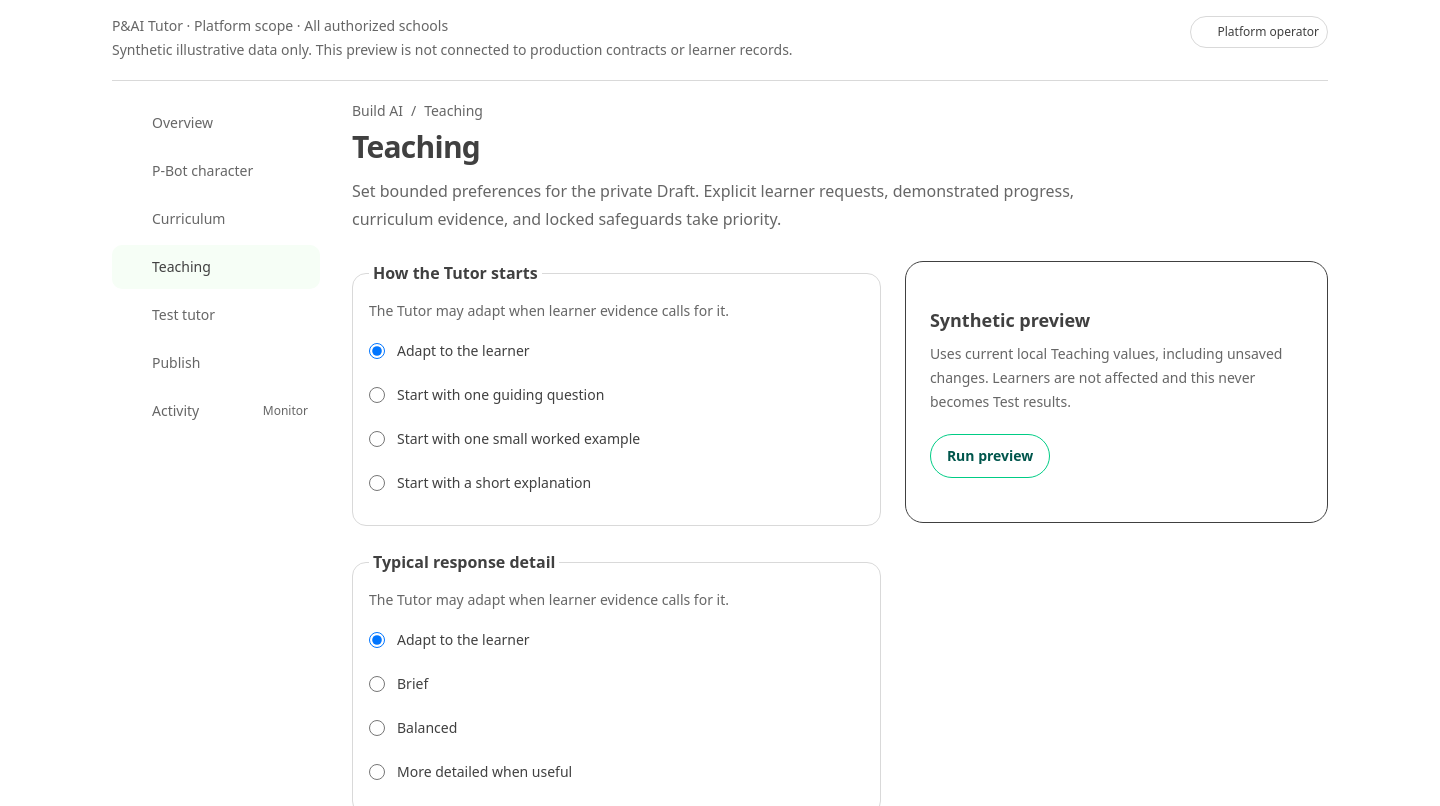
Test: Build AI state transitions › marks a Teaching preview stale after an edit and saves the Draft
The image size is (1440, 806).
Click the button "Run preview". click: {"x": 990, "y": 456}
box: [930,434,1050,478]
(page scrolled)
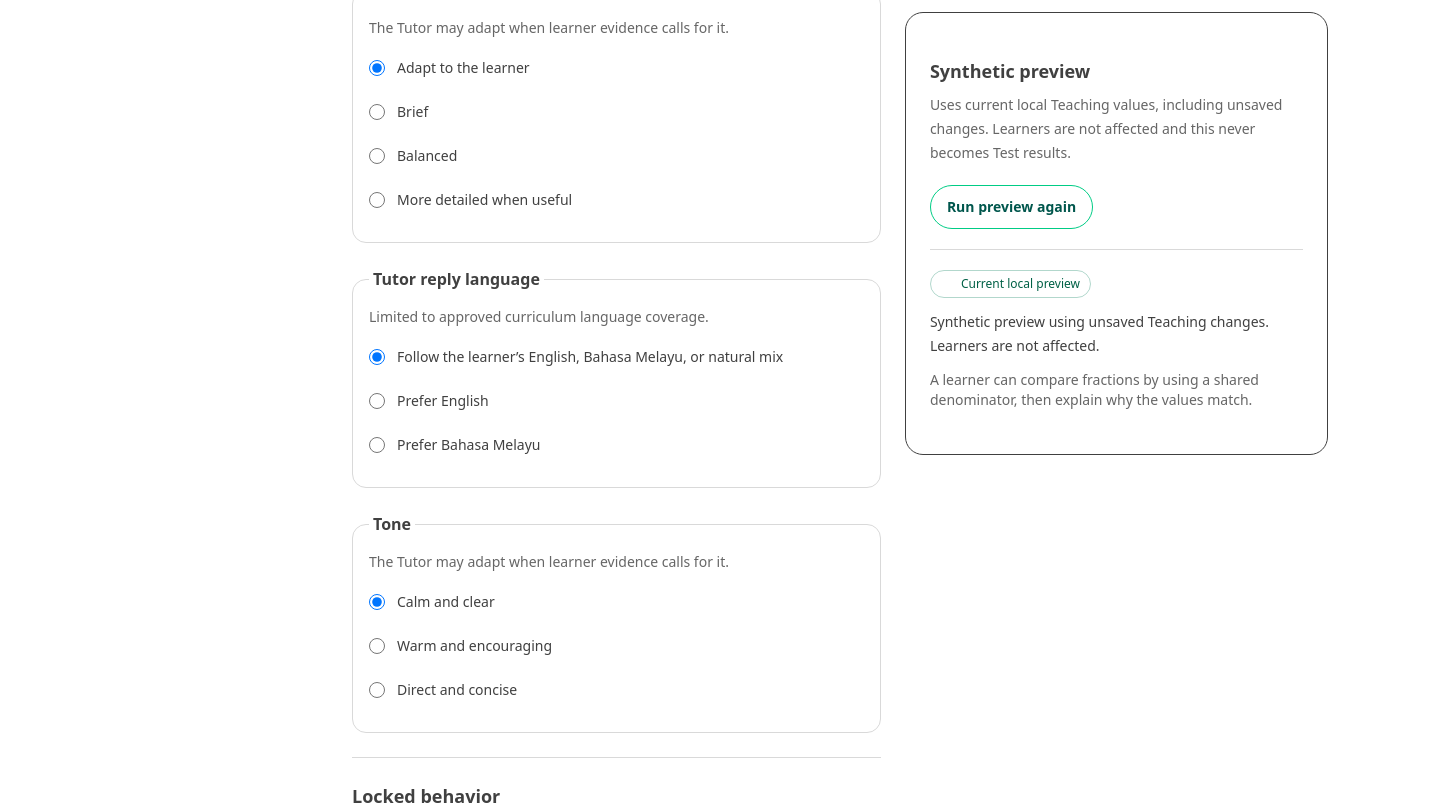
Expected: the text "Current local preview" is shown, [930,270,1091,298]
Click the radio button labelled "Prefer English". click: {"x": 377, "y": 401}
box: [369,393,385,409]
(page scrolled)
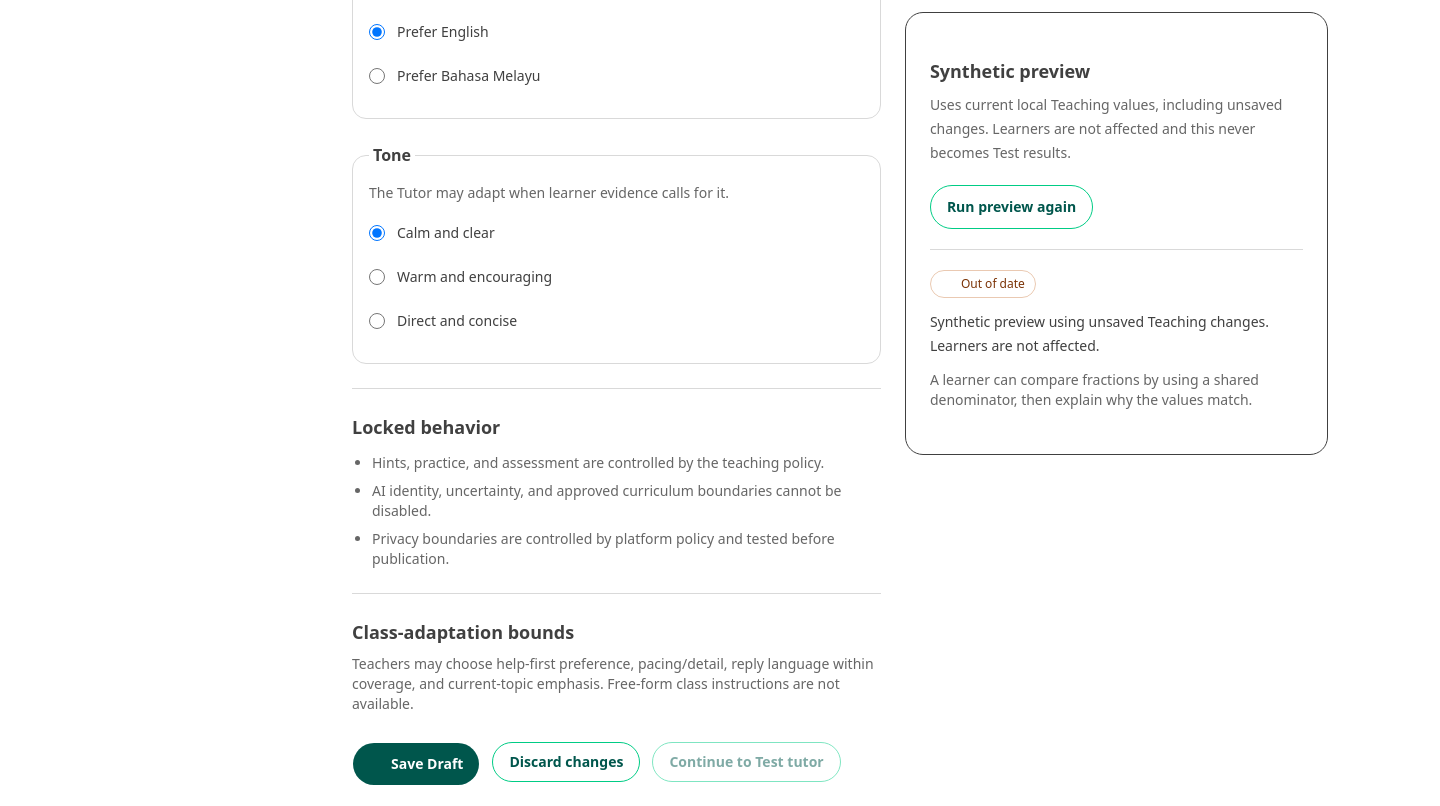
Expected: the text "Out of date" is shown, [930,270,1036,298]
Click the button "Save Draft". click: {"x": 416, "y": 764}
box: [352,742,480,786]
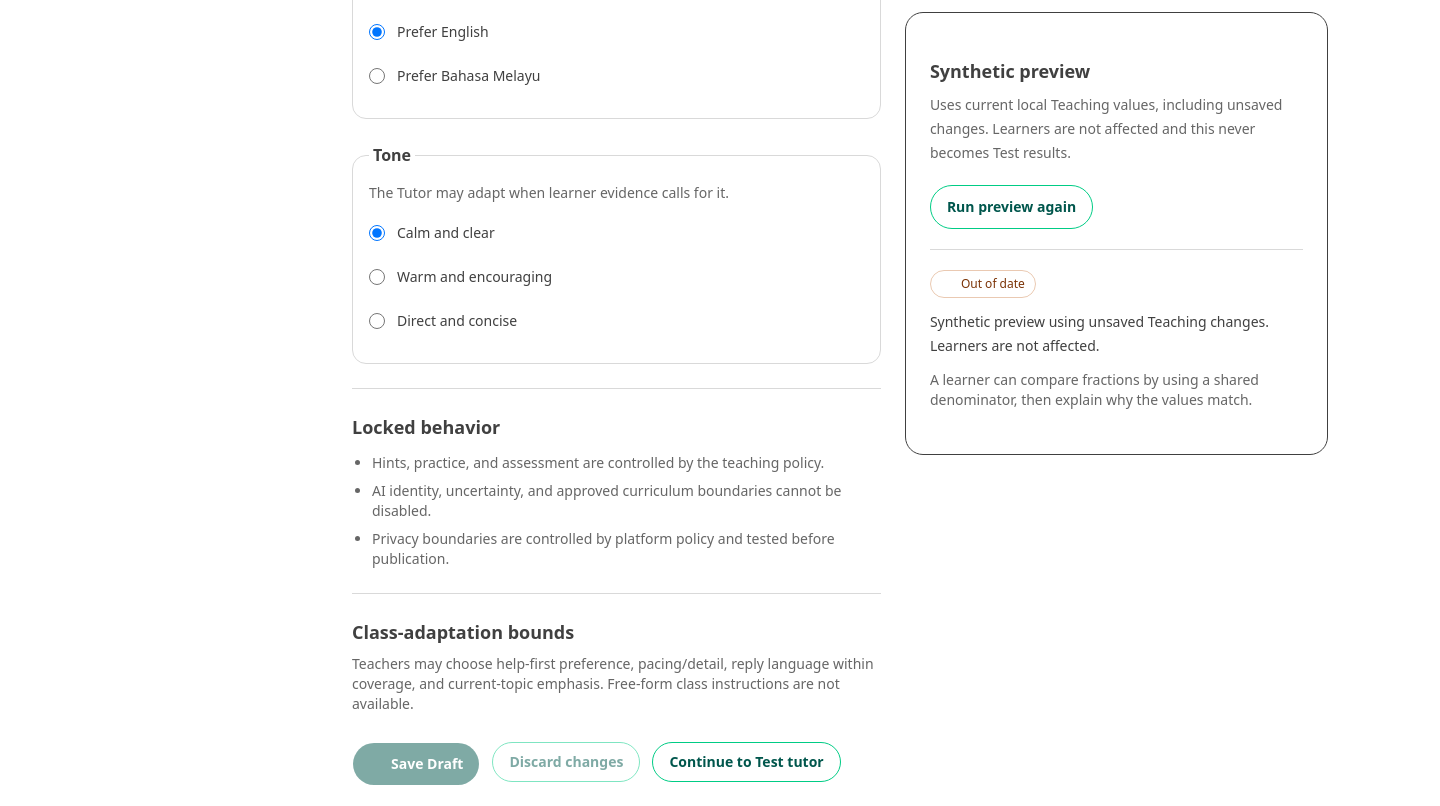
Expected: the button "Save Draft" is disabled, [352,742,480,786]
